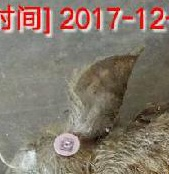text: (48, 124, 85, 162)
